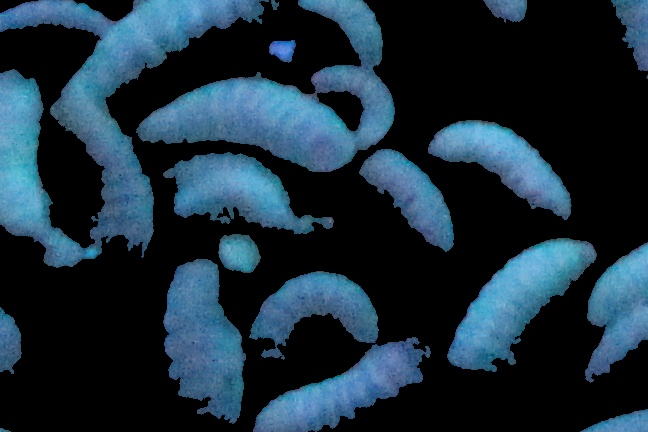larvae: (135, 74, 358, 172), (65, 1, 284, 95), (448, 236, 596, 371), (52, 92, 146, 285), (252, 334, 430, 432), (161, 253, 244, 425), (432, 120, 573, 221), (159, 153, 316, 236), (245, 272, 379, 357), (359, 144, 453, 248), (1, 67, 52, 234), (313, 64, 394, 151), (291, 1, 386, 67), (588, 243, 648, 328), (1, 1, 115, 39)
